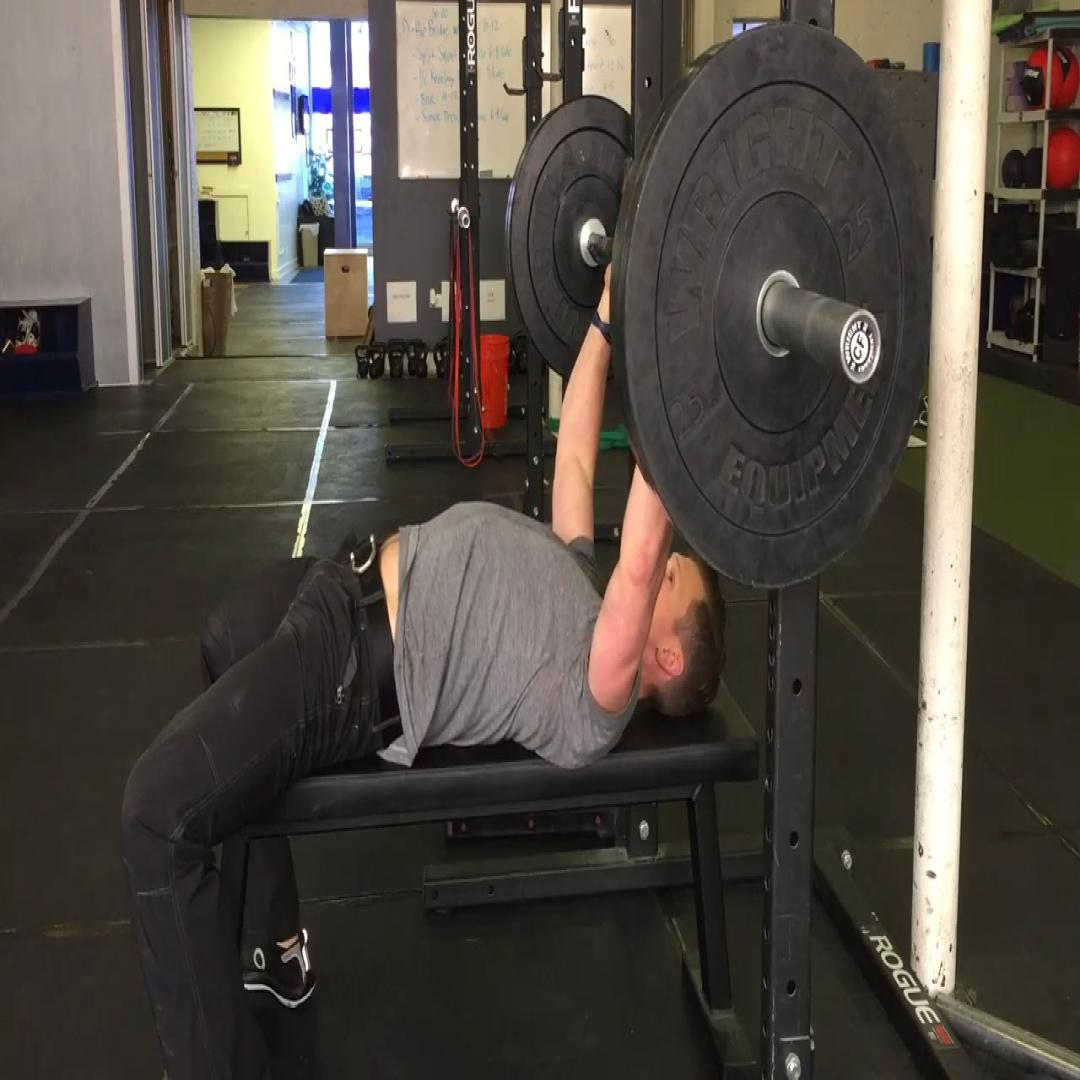Bar: (838, 308, 882, 386)
Barbell: (624, 22, 932, 590)
